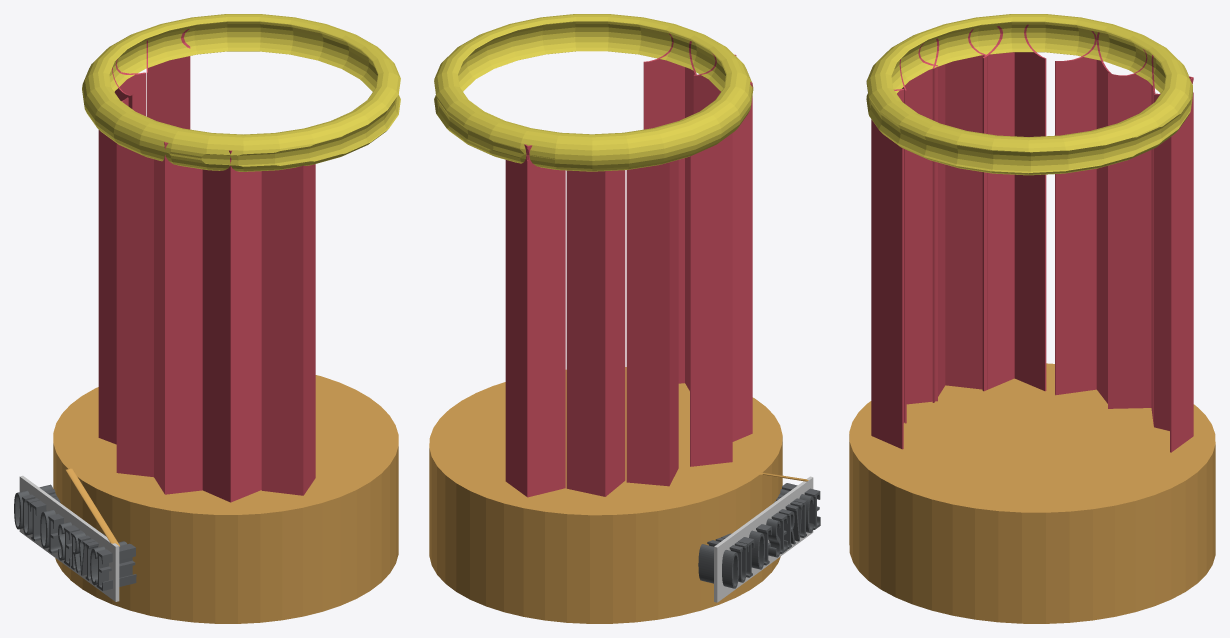
The model's file is curtain foxy.glb.
3 views of the same model, side by side, from view 1: azimuth 30°, elevation 25°; view 2: azimuth 150°, elevation 25°; view 3: azimuth 270°, elevation 25° (orthographic). The views are drawn at different scales.
Parts seen in each view (by area): view 1: Mesh_Mesh_head_geo.001_lambert2SG.001; view 2: Mesh_Mesh_head_geo.001_lambert2SG.001; view 3: Mesh_Mesh_head_geo.001_lambert2SG.001.
Part boxes in pixels (x1=…): Mesh_Mesh_head_geo.001_lambert2SG.001: x1=14, y1=14, x2=400, y2=623; Mesh_Mesh_head_geo.001_lambert2SG.001: x1=429, y1=14, x2=820, y2=623; Mesh_Mesh_head_geo.001_lambert2SG.001: x1=849, y1=14, x2=1215, y2=623.
Size of the model in its own units: 0.0494 by 0.069 by 0.0477.
